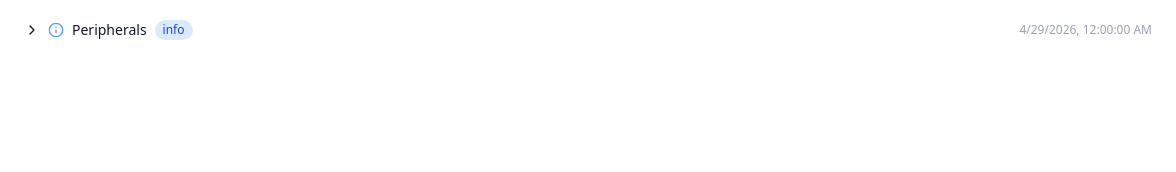
Test case: HealthChecksTab › peripherals shows empty hint when nothing enumerated
The width and height of the screenshot is (1176, 172).
Check: the text "Peripherals" is shown, box [72,20,147,40]
Click the button "Peripherals info 4/29/2026, 12:00:00 AM". click: click(109, 30)
box: [12,12,1164,48]
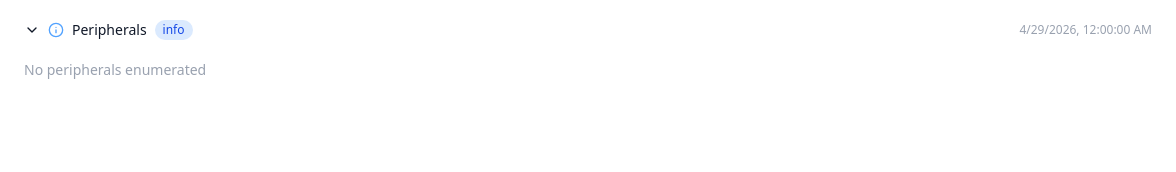
Check: the text "No peripherals enumerated" is shown, box [24,60,206,79]
